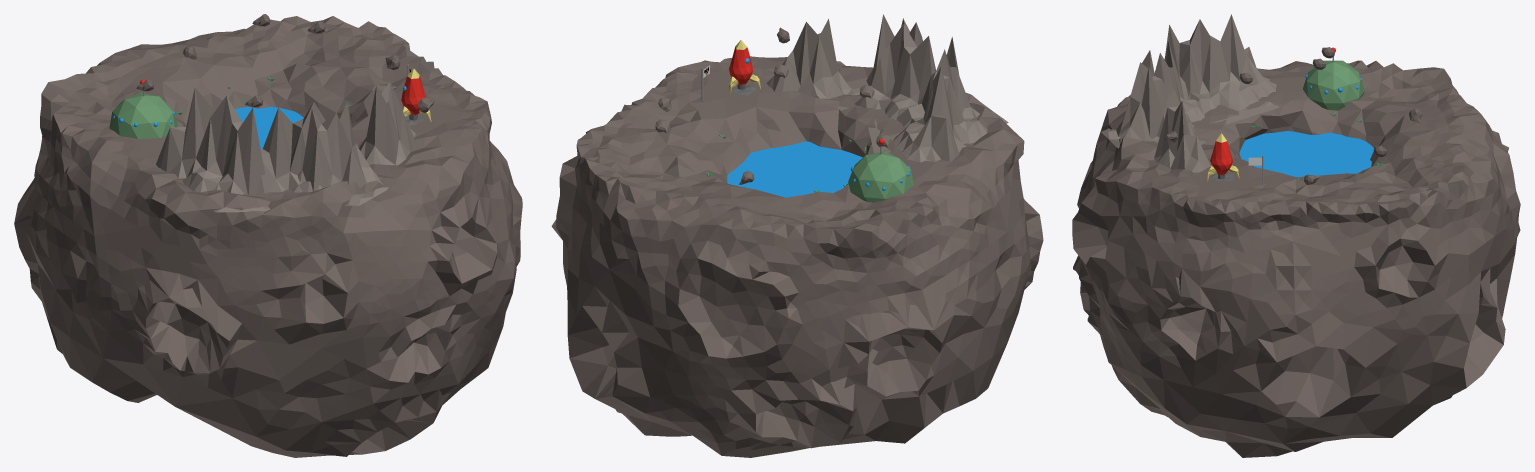
File: Moon.glb
The picture shows the model from 3 angles, left to right: view 1: azimuth 30°, elevation 25°; view 2: azimuth 150°, elevation 25°; view 3: azimuth 270°, elevation 25°; orthographic projection. The views are drawn at different scales.
Parts seen in each view (by area): view 1: Icosphere, Mountains, Mountains.001, Icosphere.022, Plane, Water; view 2: Icosphere, Mountains.001, Mountains, Water, Icosphere.022, Plane; view 3: Icosphere, Mountains, Mountains.001, Water, Icosphere.022, Plane.
Part boxes in pixels (x1,y1,x2,y2): Icosphere: (14, 16, 522, 457); Mountains: (156, 88, 383, 212); Mountains.001: (257, 82, 415, 205); Icosphere.022: (109, 79, 177, 139); Plane: (401, 68, 431, 125); Water: (235, 107, 303, 149); Icosphere: (551, 56, 1043, 457); Mountains.001: (766, 14, 935, 118); Mountains: (866, 18, 1008, 162); Water: (727, 141, 862, 197); Icosphere.022: (848, 138, 913, 202); Plane: (729, 40, 760, 95); Icosphere: (1072, 60, 1520, 457); Mountains: (1120, 14, 1278, 143); Mountains.001: (1101, 41, 1210, 172); Water: (1239, 131, 1373, 177); Icosphere.022: (1303, 47, 1364, 110); Plane: (1207, 133, 1239, 181).
Size of the model in its own units: 61.28 by 54.44 by 61.5.
